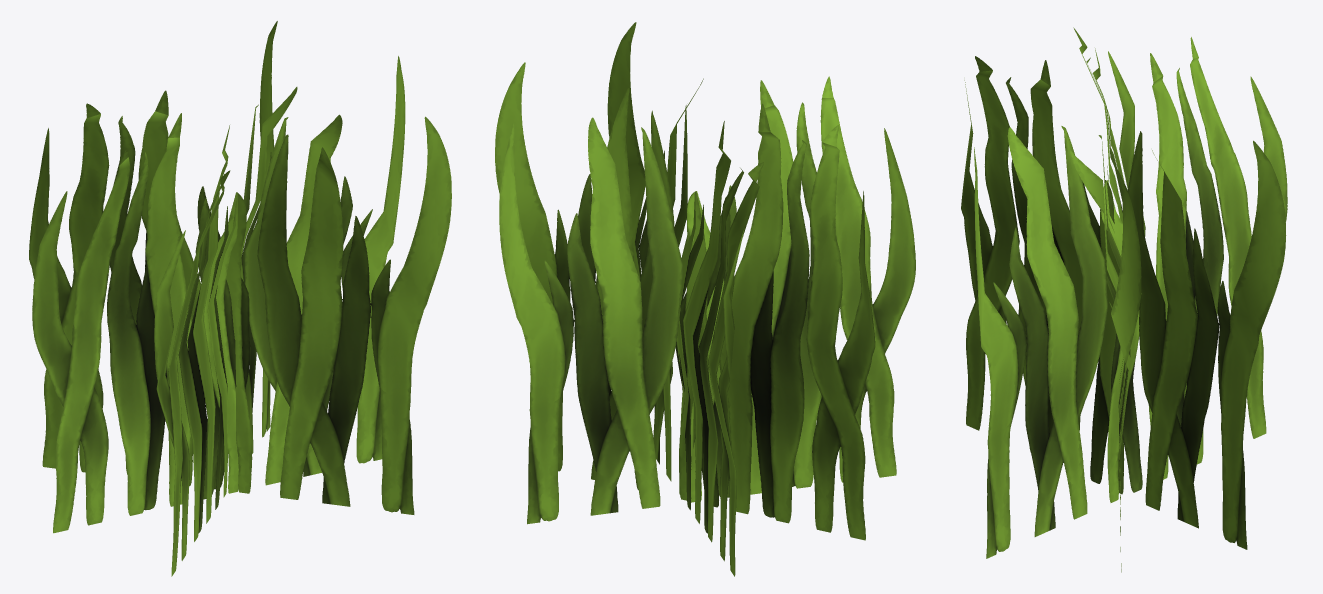
Rendered from grass.fbx.
3 views of the same model, side by side, from view 1: azimuth 30°, elevation 25°; view 2: azimuth 150°, elevation 25°; view 3: azimuth 270°, elevation 25° (orthographic). The views are drawn at different scales.
Visible parts, largest first — view 1: grass_plane_low3; view 2: grass_plane_low3; view 3: grass_plane_low3.
Part boxes in pixels (box(x1,y1,x2,y2)): grass_plane_low3: box(29, 21, 451, 576); grass_plane_low3: box(495, 22, 915, 576); grass_plane_low3: box(961, 27, 1287, 572).
Bounding box in the file's own units: 23.12 × 23.73 × 17.32.
Materials: 1 (1 with a texture image).
